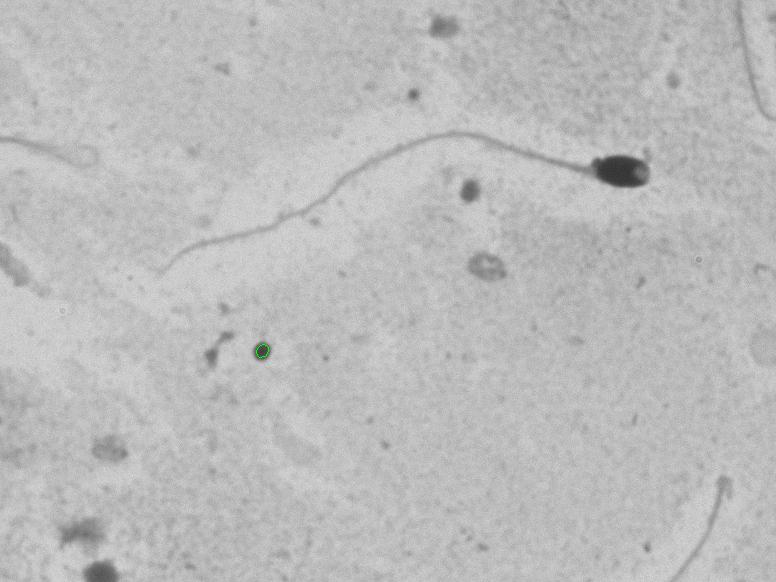Abnormal: (135, 83, 682, 297)
